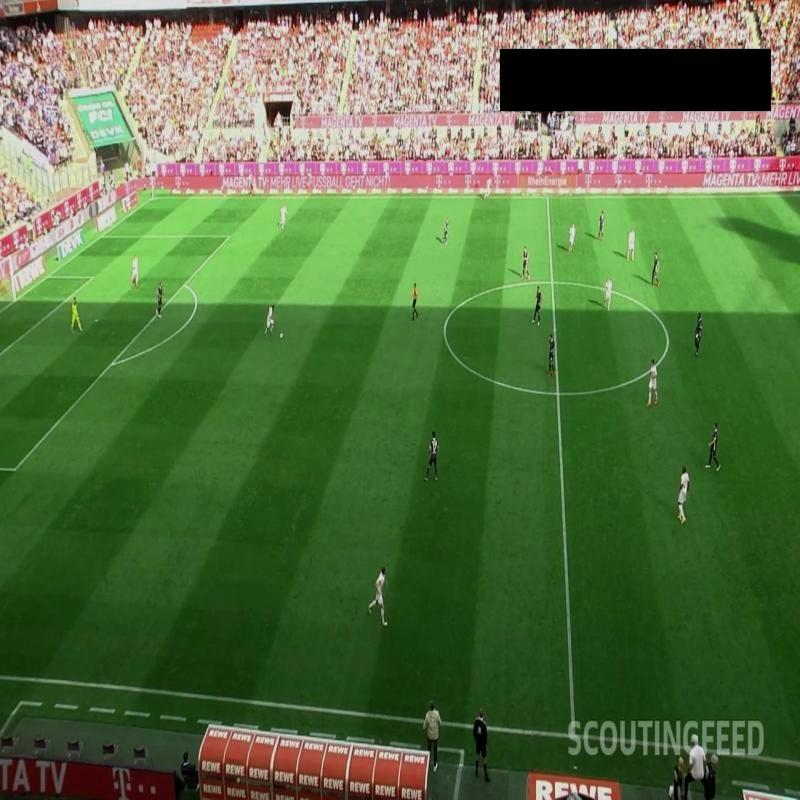1: (147, 191, 161, 205)
10: (178, 278, 192, 292)
11: (106, 357, 120, 371)
12: (7, 464, 21, 478)
13: (540, 192, 554, 206)
14: (546, 275, 560, 289)
15: (552, 387, 566, 401)
16: (560, 716, 588, 750)
2: (95, 230, 109, 244)
3: (42, 270, 55, 284)
7: (86, 269, 100, 283)
9: (222, 231, 236, 245)
c: (661, 330, 677, 346), (436, 322, 450, 336)
